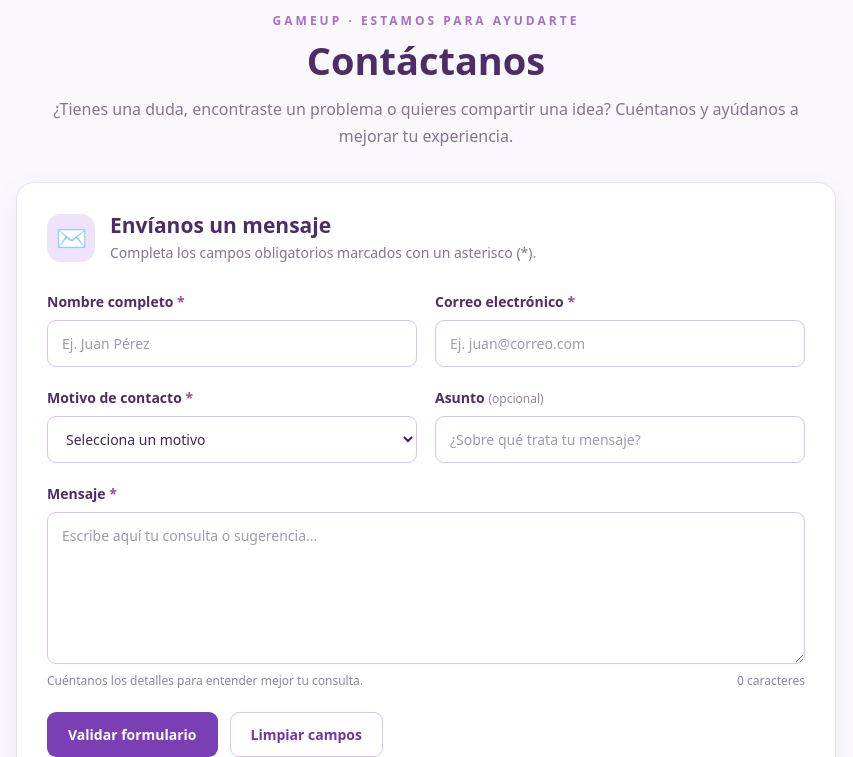
it: Componente Contacto › muestra errores cuando se intenta validar el formulario vacío
The width and height of the screenshot is (853, 757).
Click the button "Validar formulario": {"x": 132, "y": 735} [47,712,218,756]
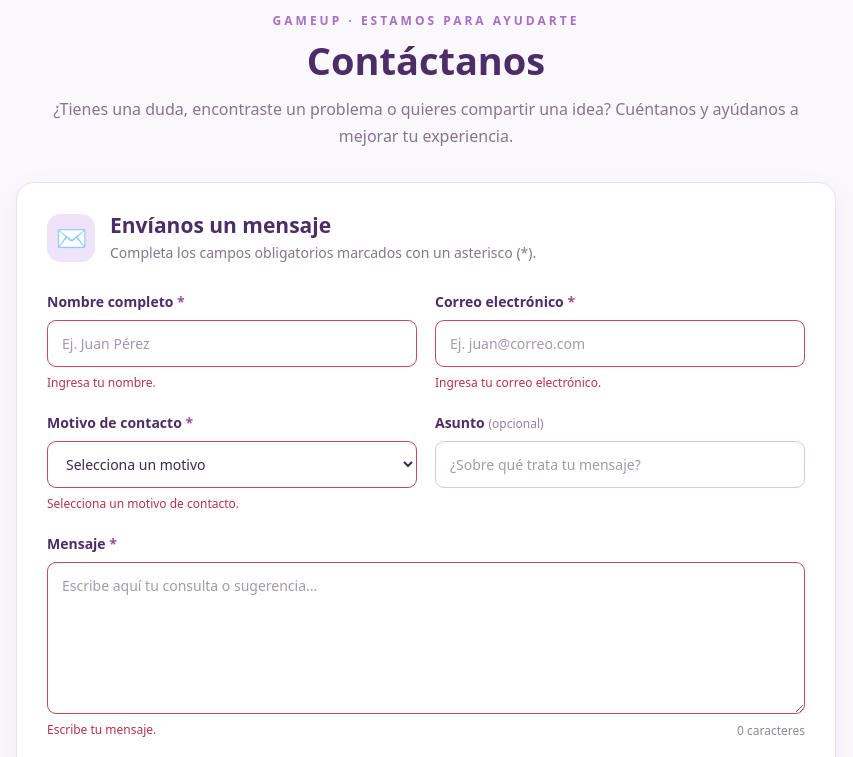
Result: the text "Ingresa tu nombre." is shown at [47,374,156,391]
Result: the text "Ingresa tu correo electrónico." is shown at [435,374,601,391]
Result: the text "Selecciona un motivo de contacto." is shown at [47,495,239,512]
